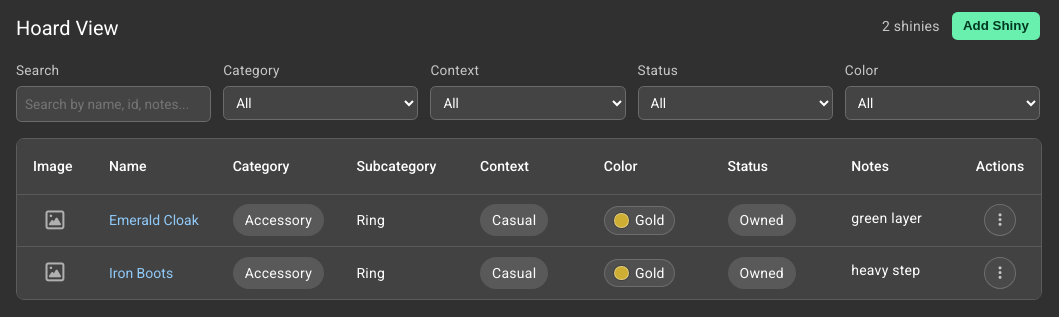
HoardViewComponent › filters rows by search query
Type "emerald" into the search field with id "shiny-search-filter" at (114, 104), box left=16, top=86, right=211, bottom=122
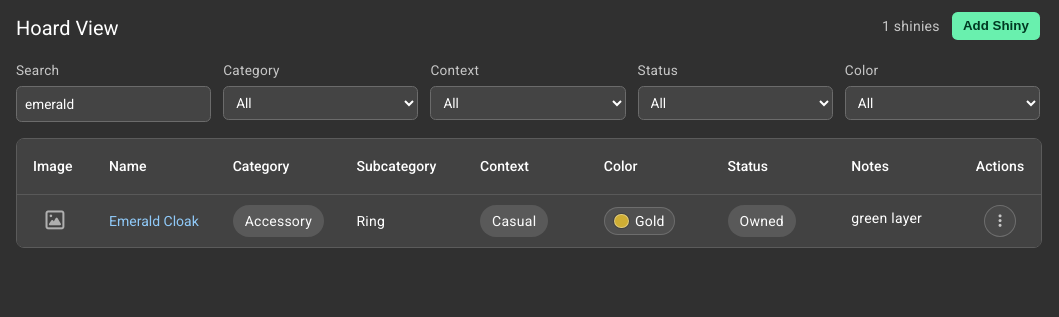
Expected: the text "Emerald Cloak" is shown, left=109, top=211, right=199, bottom=231
Expected: the text "Iron Boots" is gone
